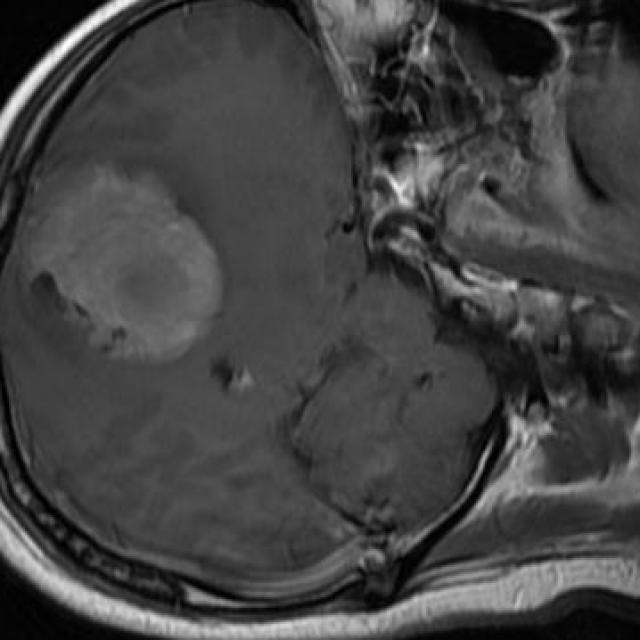meningioma: (27, 168, 221, 362)
